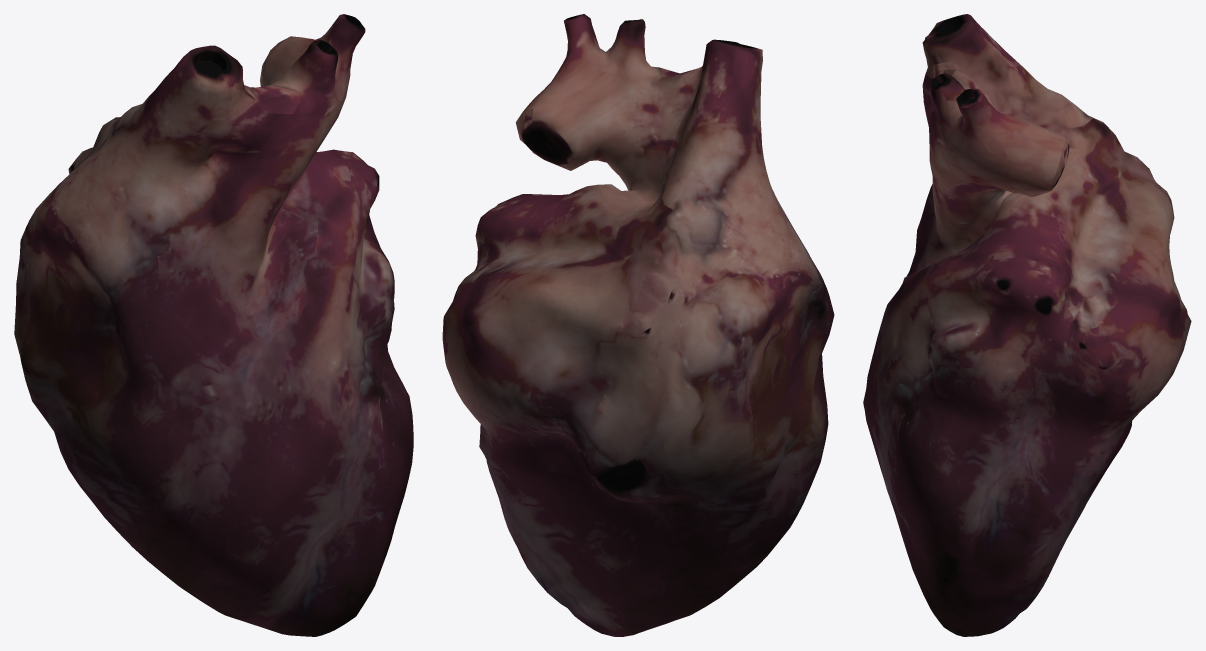
The model's file is baboon_heart.fbx.
The picture shows the model from 3 angles, left to right: view 1: azimuth 30°, elevation 25°; view 2: azimuth 150°, elevation 25°; view 3: azimuth 270°, elevation 25°; orthographic projection. The views are drawn at different scales.
Visible parts, largest first — view 1: baboon_heart; view 2: baboon_heart; view 3: baboon_heart.
Part boxes in pixels (x1=…): baboon_heart: x1=14, y1=14, x2=413, y2=636; baboon_heart: x1=442, y1=14, x2=834, y2=636; baboon_heart: x1=863, y1=14, x2=1191, y2=636.
Size of the model in its own units: 91.93 by 168 by 88.32.
